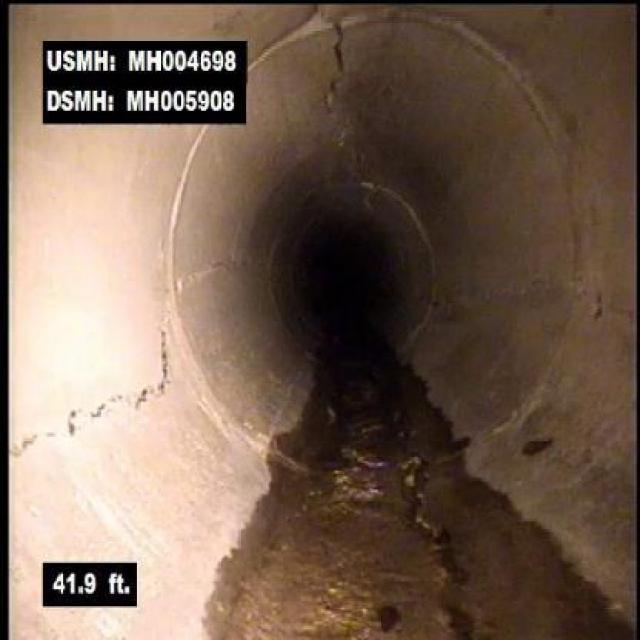Crack: (365, 410, 492, 638), (9, 315, 180, 460), (303, 3, 374, 83), (188, 239, 266, 306), (591, 260, 635, 355)
